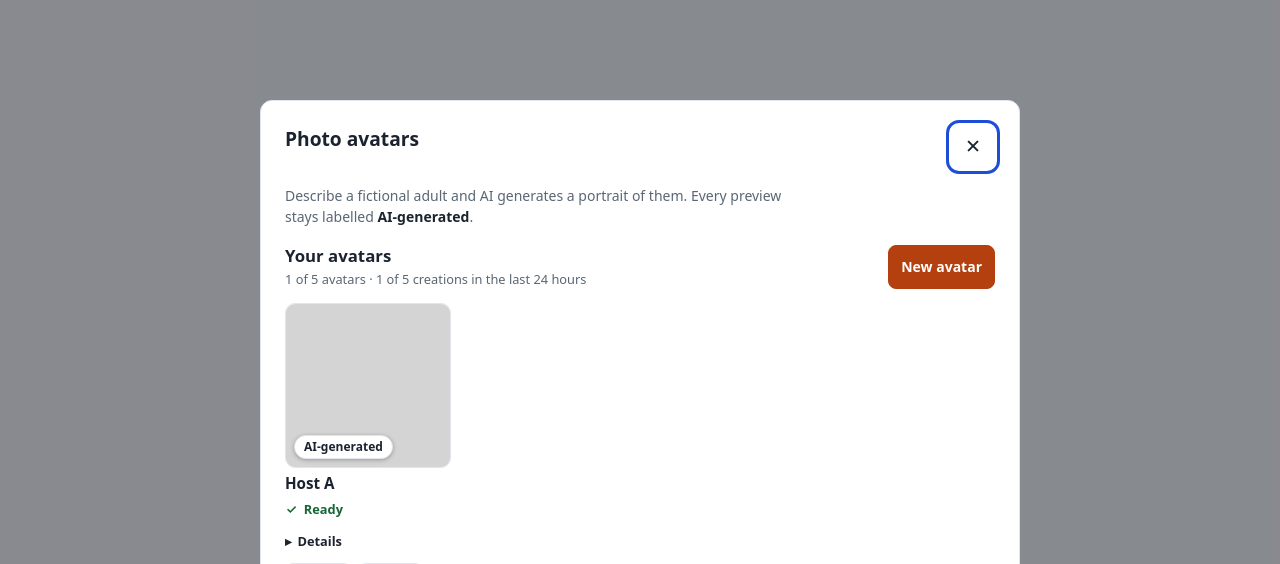
Test: creating an avatar › explains a daily_creation_limit refusal and re-reads the limits
The width and height of the screenshot is (1280, 564).
Click the button "New avatar" at [942, 267], box [888,245,995,289]
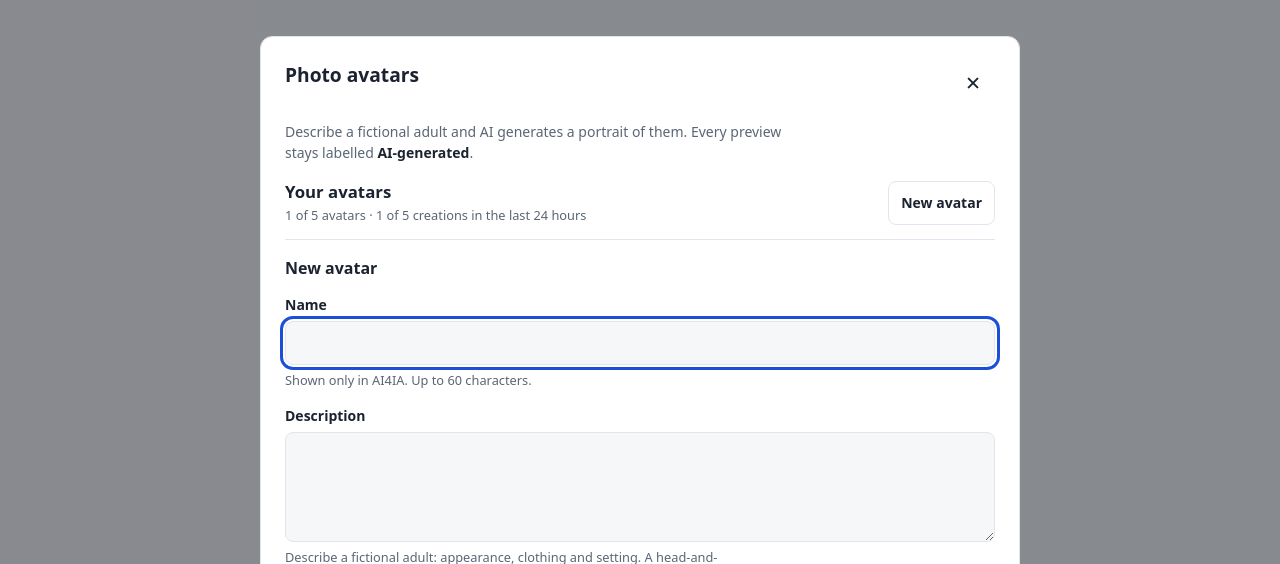
Type "Office guide" into the field labelled "Name" at [640, 343], box [285,321,995,365]
Type "A calm host in a blue jacket" into the text box labelled "Description" at [640, 487], box [285,432,995,542]
(page scrolled)
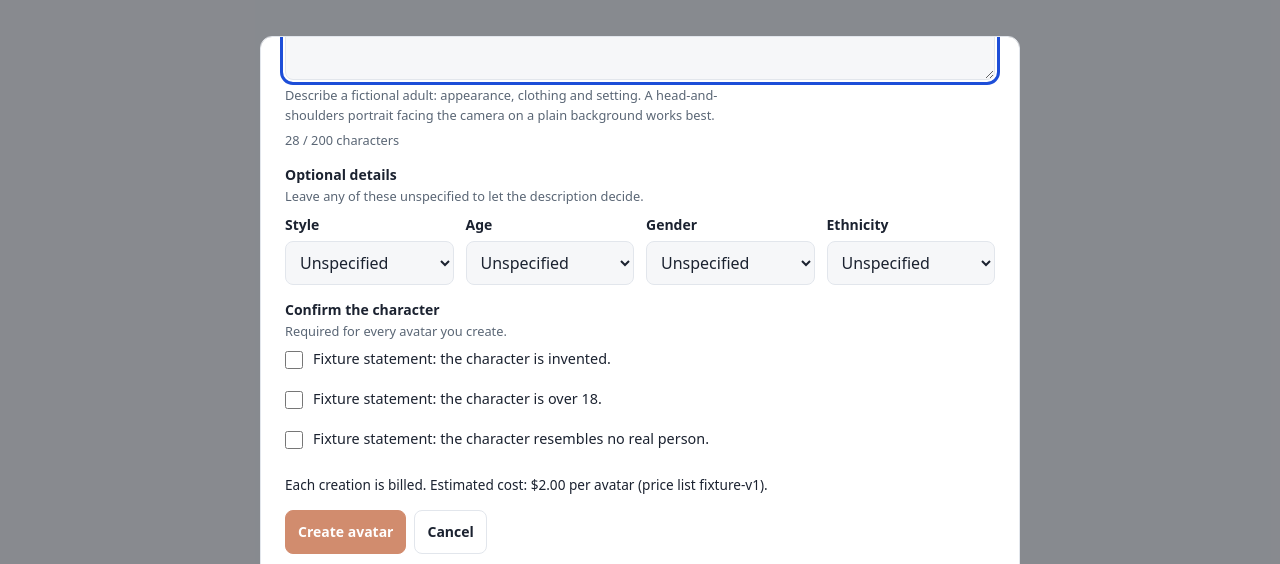
Click the checkbox labelled "Fixture statement: the character is invented." at [294, 360], box [285,351,303,369]
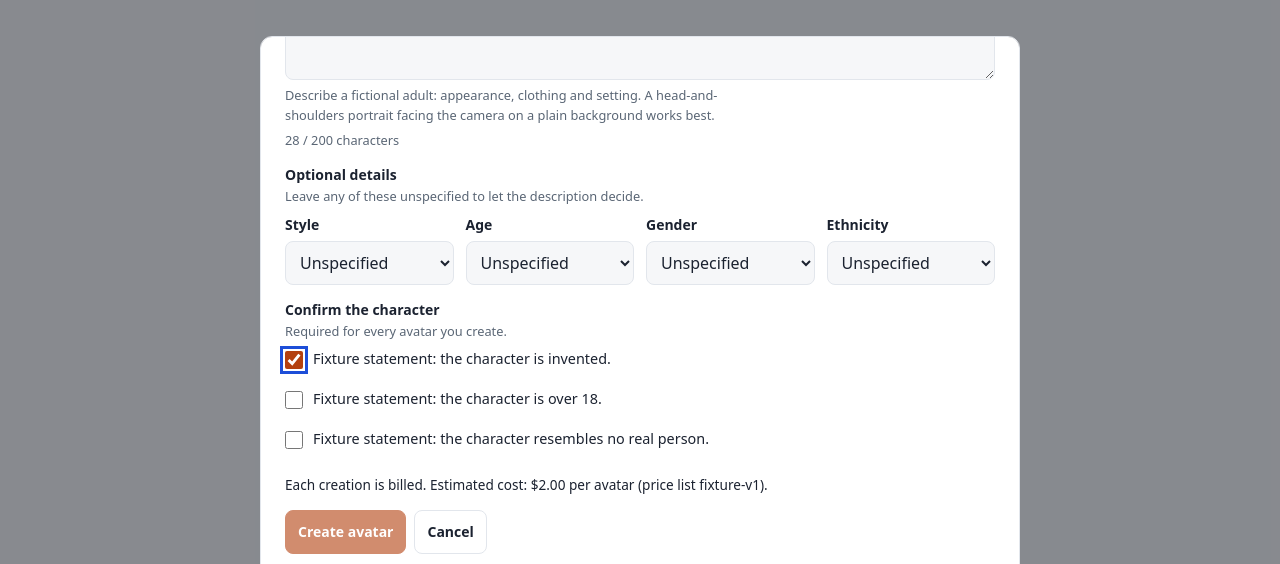
Click the checkbox labelled "Fixture statement: the character is over 18." at [294, 400], box [285,391,303,409]
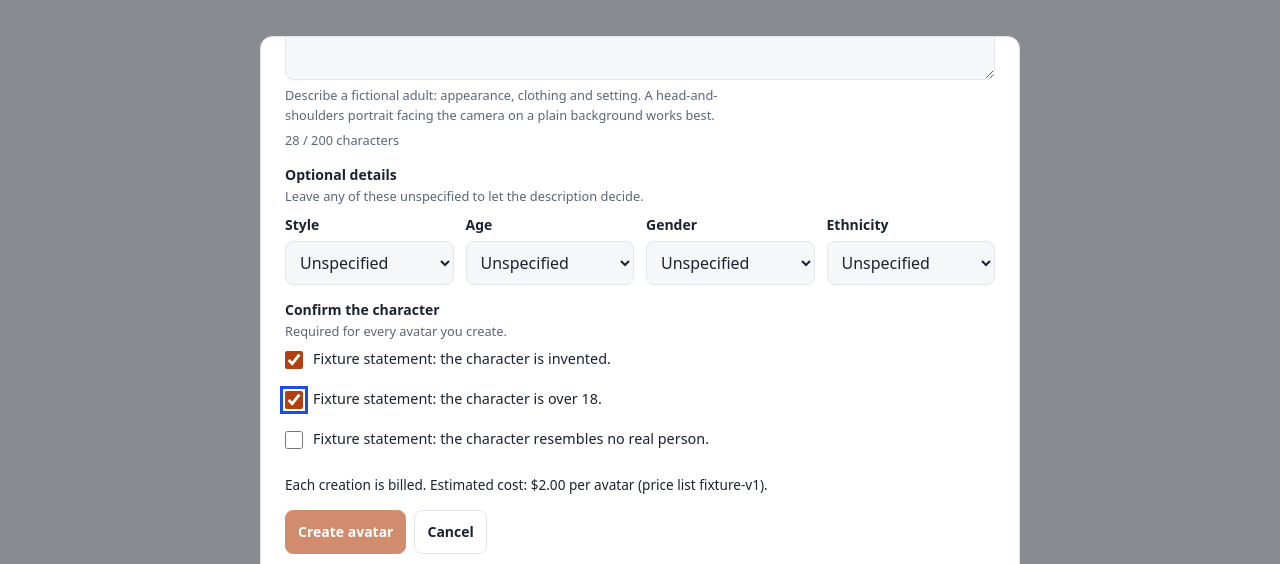
Click the checkbox labelled "Fixture statement: the character resembles no real person." at [294, 440], box [285,431,303,449]
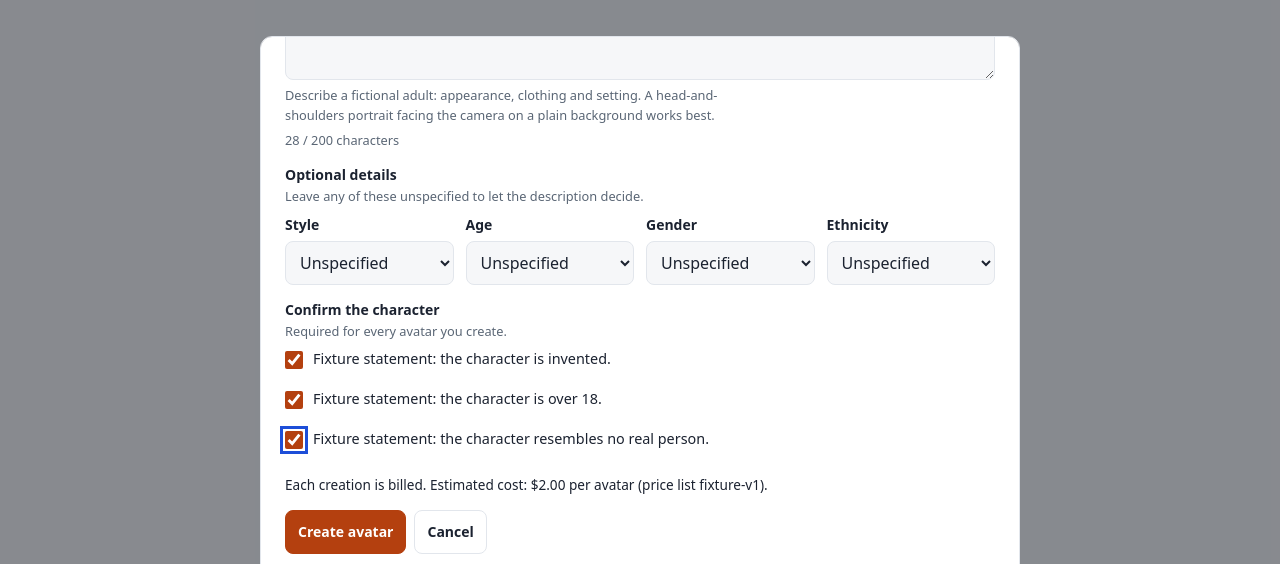
Click the button "Create avatar" at [346, 532], box [285,510,406,554]
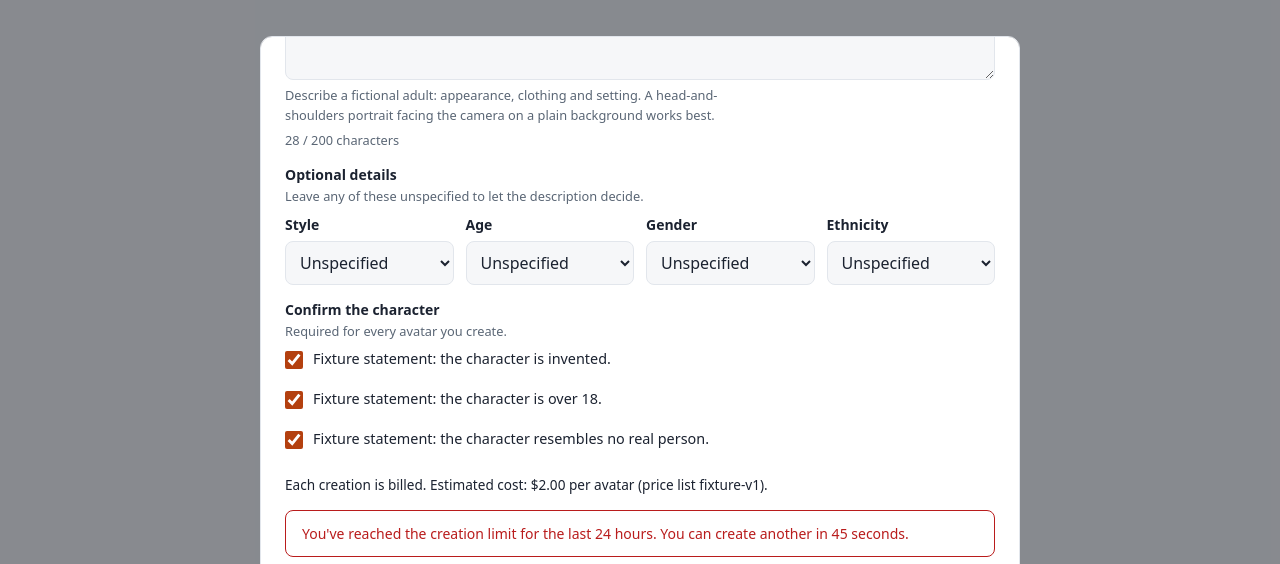
Now the checkbox labelled "Fixture statement: the character is invented." is checked, box [285,351,303,369]
Now the checkbox labelled "Fixture statement: the character is over 18." is checked, box [285,391,303,409]
Now the message shows "You've reached the creation limit for the last 24 hours. You can create another in 45 seconds.", box [302,524,909,543]
